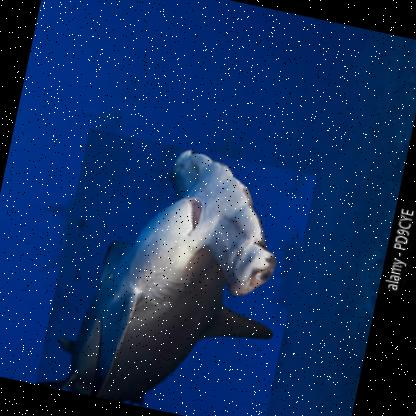hammerhead_Shark: (34, 126, 318, 415)
